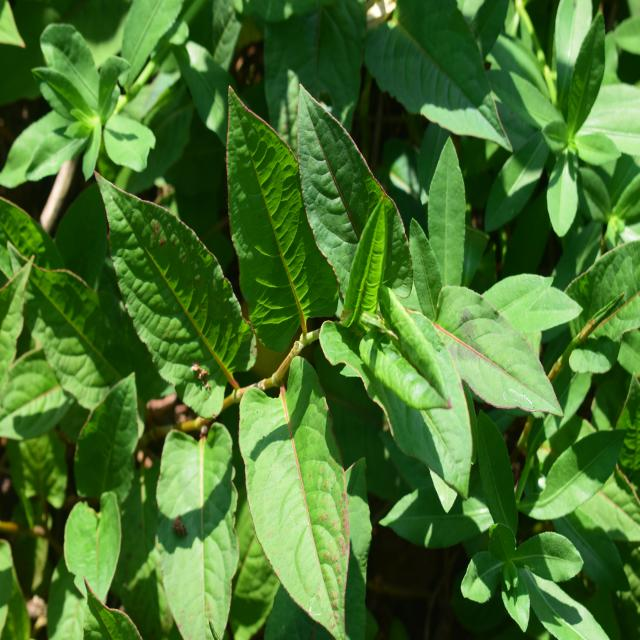Chinese_knotweed: (116, 114, 436, 588)
